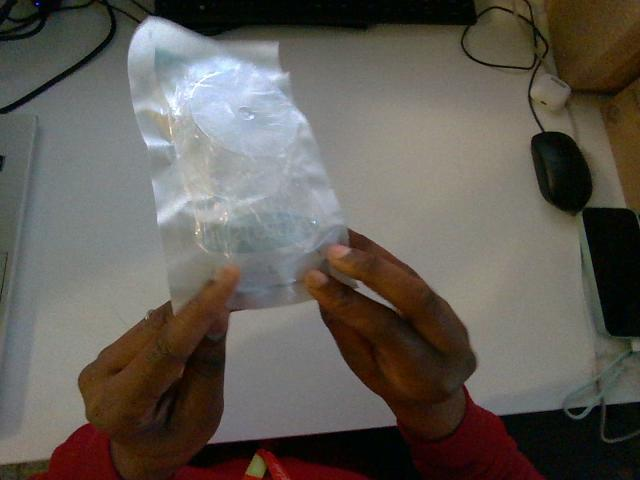gallipot: (128, 17, 347, 310)
